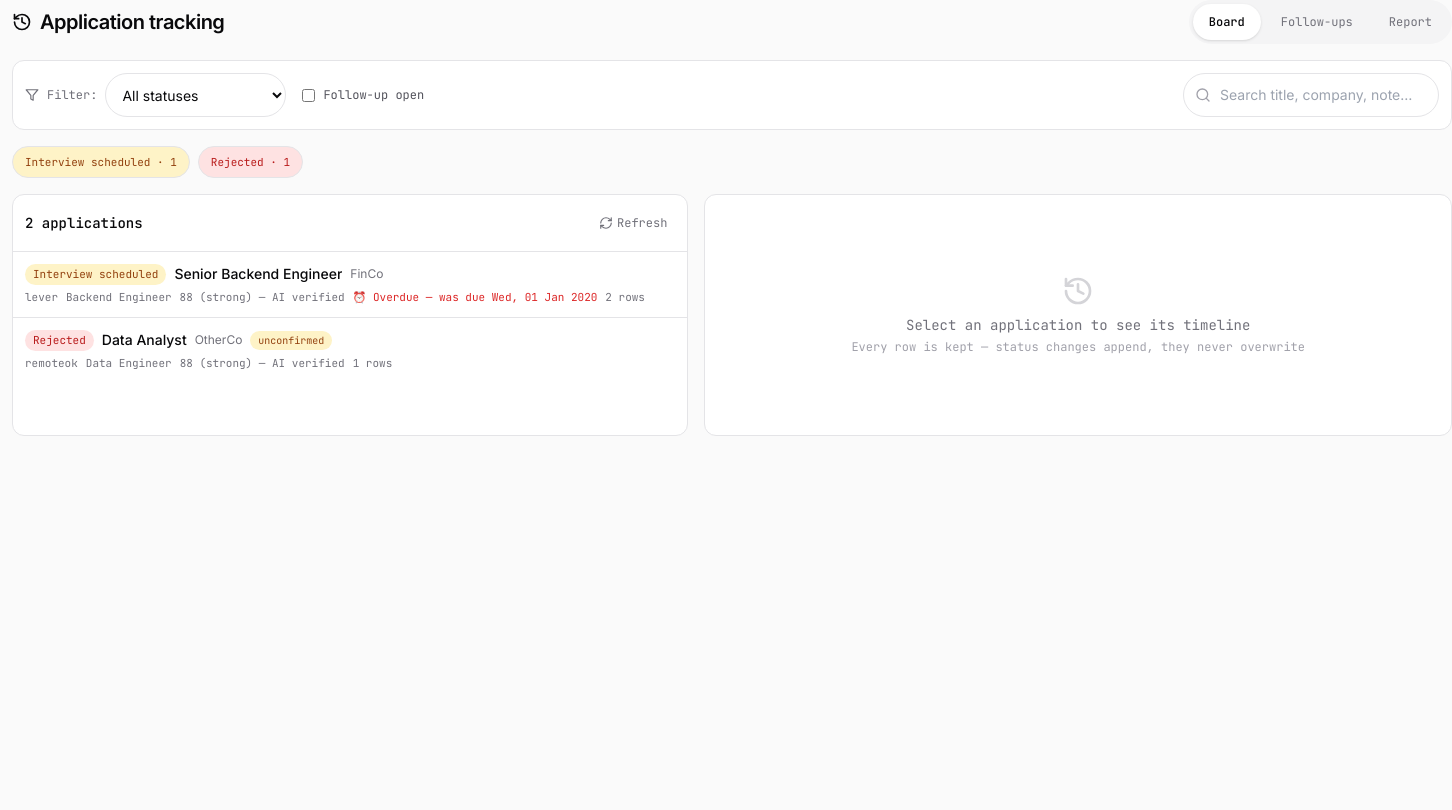
Test: Tracking board › opens a record’s own timeline, with the origin of each row
Click the button with test id "record-4" at point(96, 274), box [13,252,687,317]
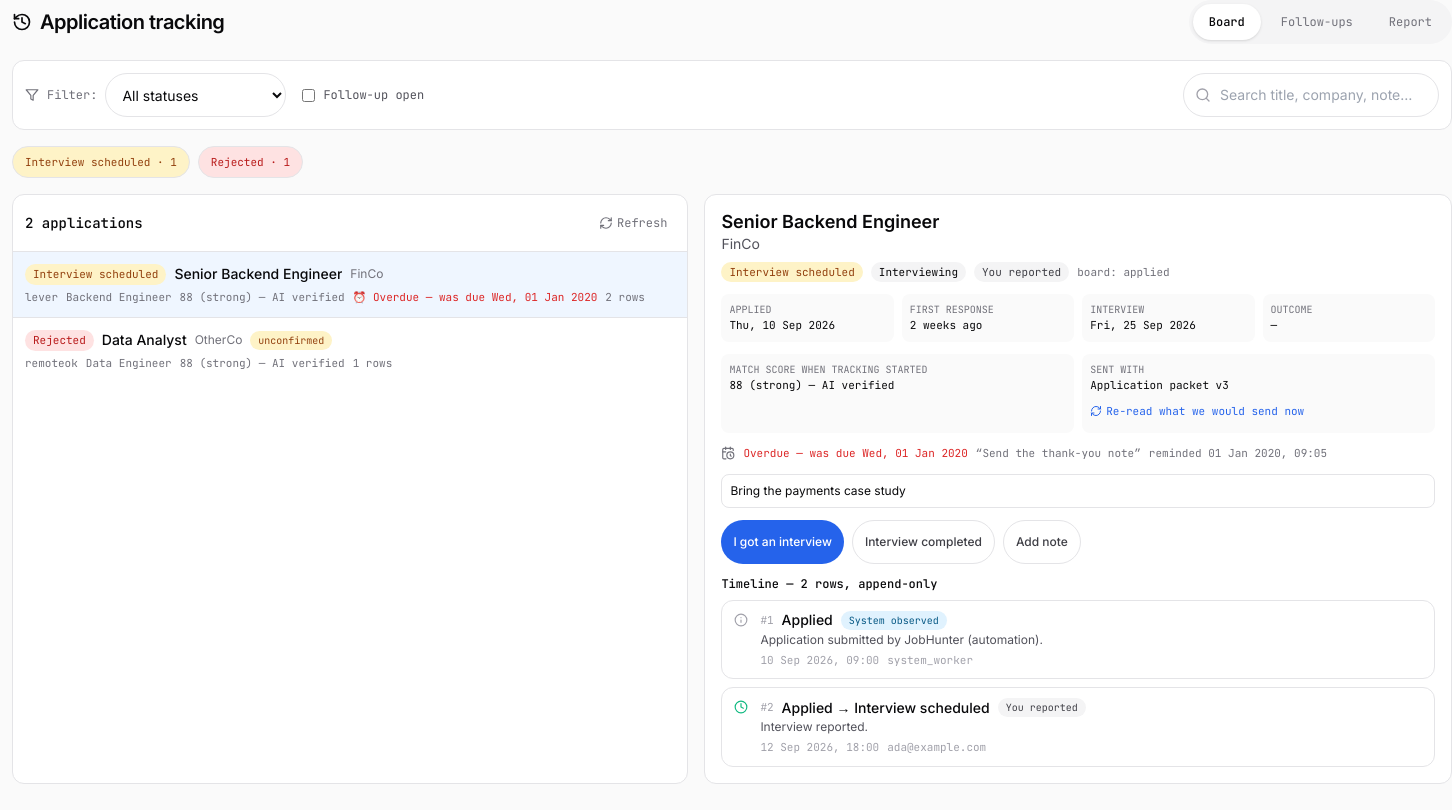
Check: the text with test id "selected-state" is shown, box [721,262,863,282]
Check: the text with test id "selected-state" reads "Interview scheduled", box [729,264,855,278]
Check: the text with test id "selected-origin" reads "You reported", box [982,264,1061,278]
